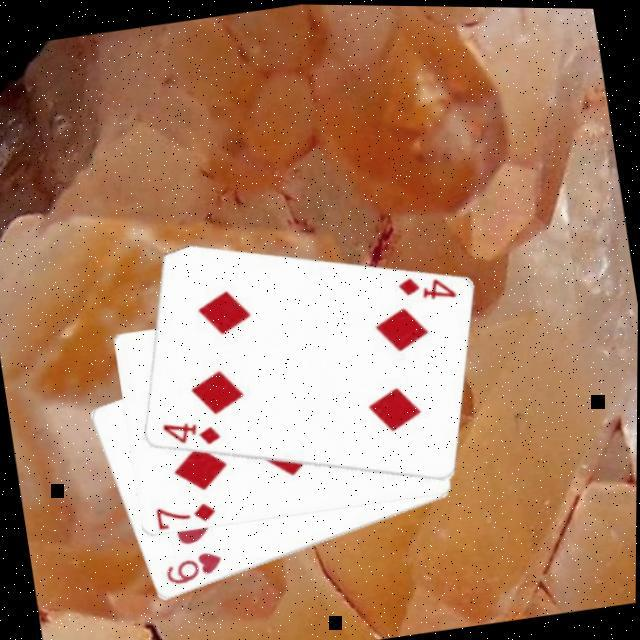4D: (160, 414, 226, 456), (394, 266, 460, 308)
6H: (162, 547, 228, 591)
7D: (154, 496, 221, 532)
